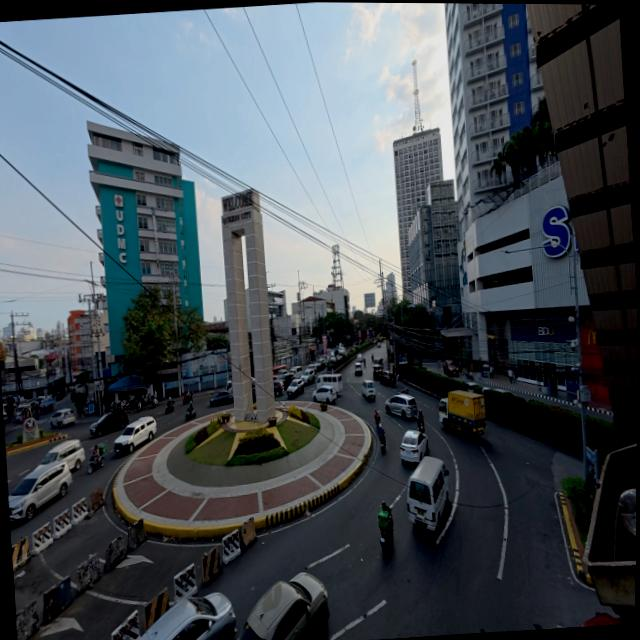car: (238, 573, 329, 639), (141, 593, 235, 639), (8, 463, 72, 521), (42, 440, 85, 470), (87, 408, 129, 438), (401, 430, 428, 462), (385, 394, 417, 418), (50, 408, 75, 427), (313, 385, 337, 403), (210, 391, 234, 406), (16, 402, 34, 421), (287, 379, 304, 397), (482, 387, 514, 396), (362, 380, 376, 400), (443, 359, 459, 376), (379, 371, 396, 386), (279, 371, 294, 388), (301, 367, 315, 384), (273, 379, 285, 396), (315, 357, 326, 370), (373, 365, 382, 380), (467, 381, 478, 391), (307, 364, 317, 374), (355, 363, 362, 376), (252, 384, 256, 402), (338, 348, 345, 356), (357, 354, 363, 362), (4, 420, 6, 432), (377, 342, 380, 347)
motorcycle: (87, 444, 106, 473), (380, 529, 393, 552), (122, 397, 138, 411), (377, 432, 386, 453), (184, 407, 196, 420), (146, 396, 158, 408), (165, 401, 174, 414), (417, 416, 424, 432), (183, 393, 192, 403), (466, 370, 473, 380), (137, 401, 142, 411), (401, 388, 408, 394)
trucks: (439, 391, 486, 436)
vans: (407, 457, 448, 530), (115, 416, 157, 453), (316, 373, 342, 392), (362, 380, 376, 400), (290, 366, 303, 378)
